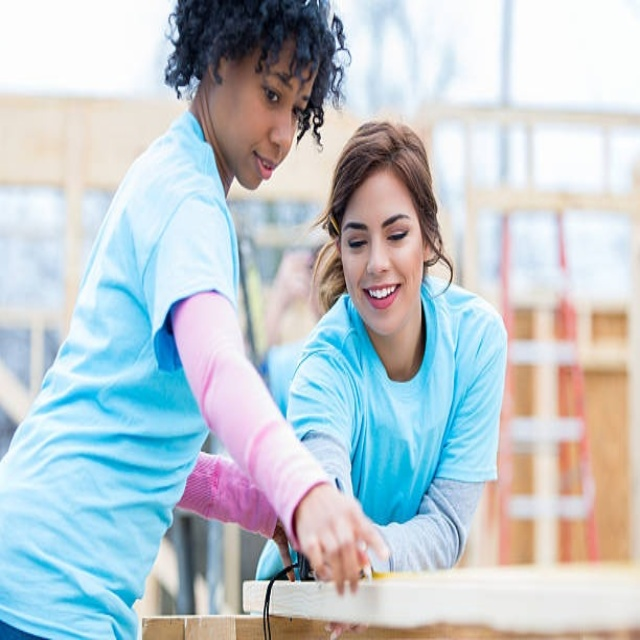Sin_gafas: (245, 61, 305, 133), (343, 205, 416, 254)
Sin_guantes: (294, 488, 389, 599), (326, 620, 366, 640)
Sin_mascara: (357, 271, 413, 328), (244, 141, 282, 191)
